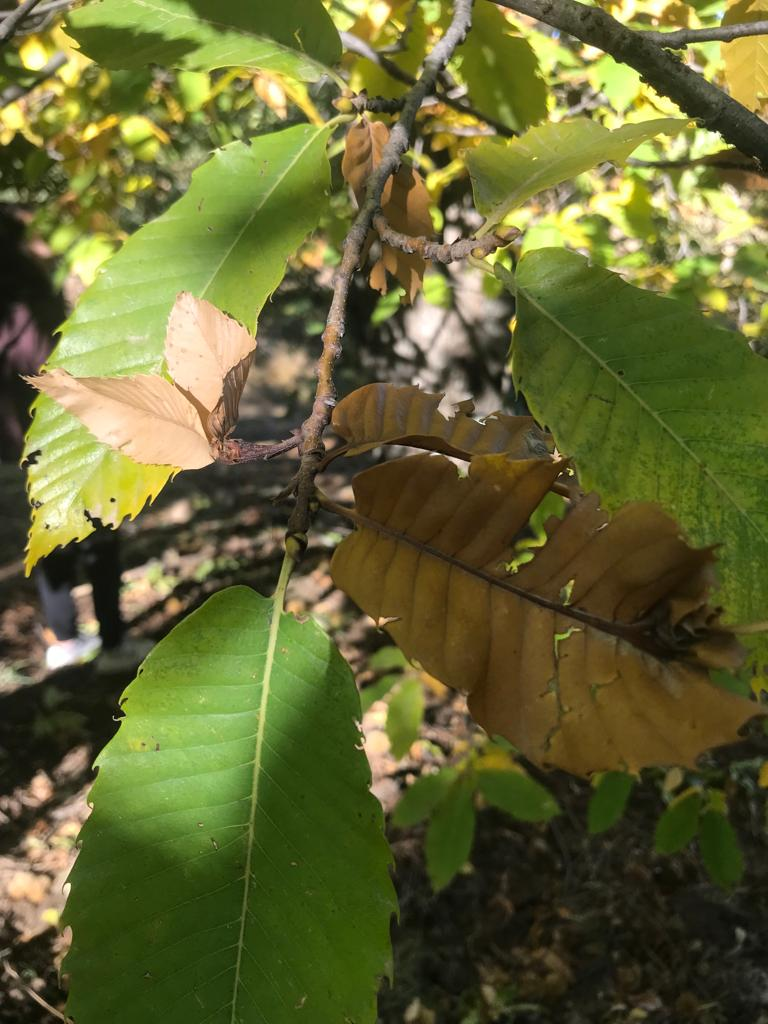galarisi: (597, 551, 735, 708)
